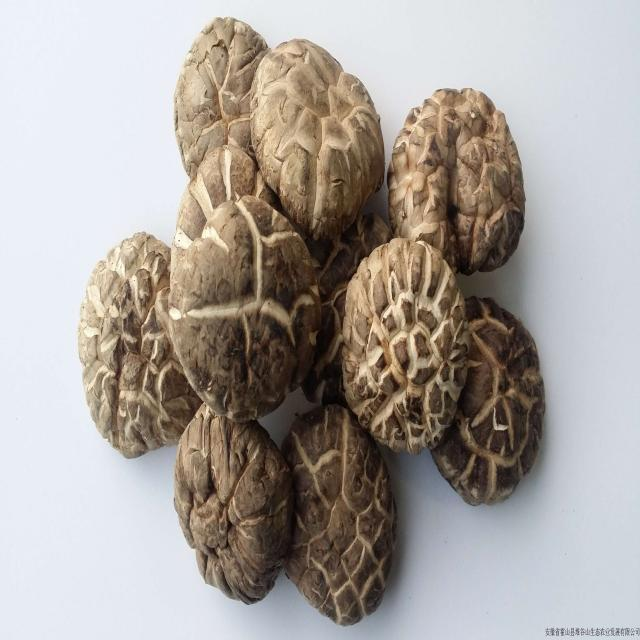Lentinus edodes: (174, 194, 318, 424), (343, 238, 469, 448), (386, 86, 527, 270), (251, 39, 385, 232), (80, 231, 190, 458), (175, 402, 295, 606), (284, 410, 397, 624), (439, 293, 545, 503), (174, 17, 270, 176)
